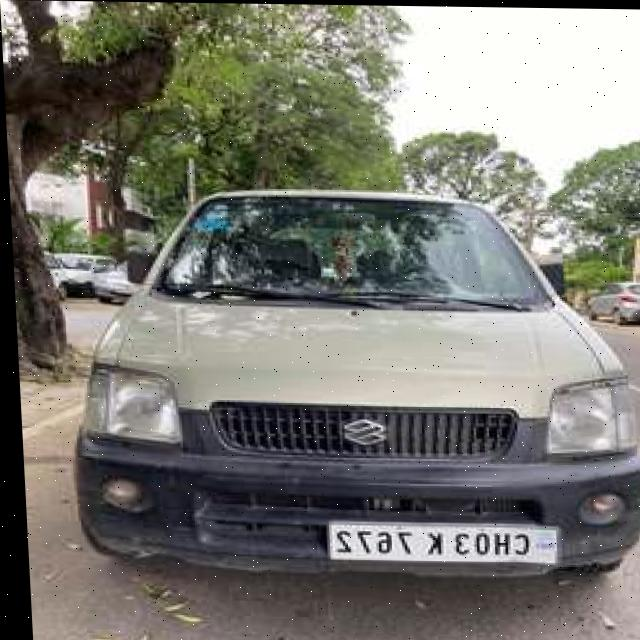plate: (318, 518, 556, 566)
